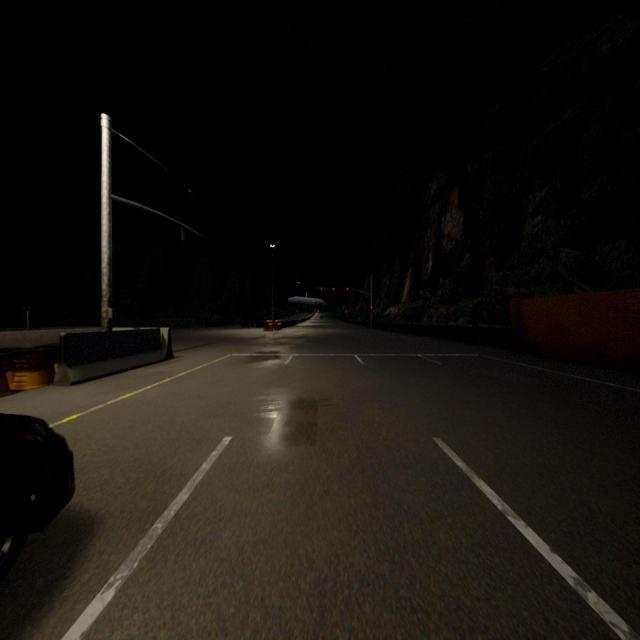Vehicle: (0, 412, 73, 563)
traffic_light: (180, 224, 185, 240), (332, 287, 335, 293), (346, 288, 349, 293), (320, 287, 323, 292), (371, 306, 372, 312)
